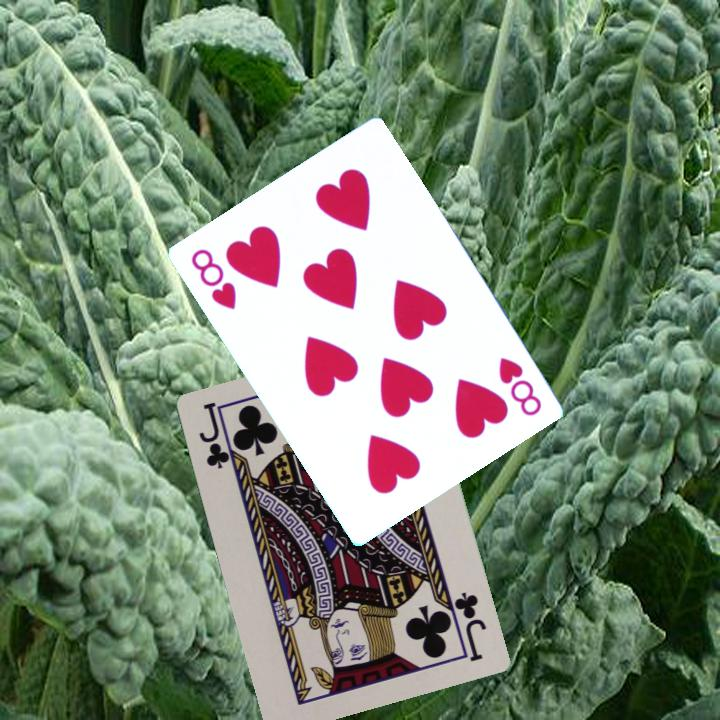8h: (186, 244, 239, 312), (494, 353, 544, 419)
Jc: (196, 398, 239, 478), (446, 588, 490, 665)
